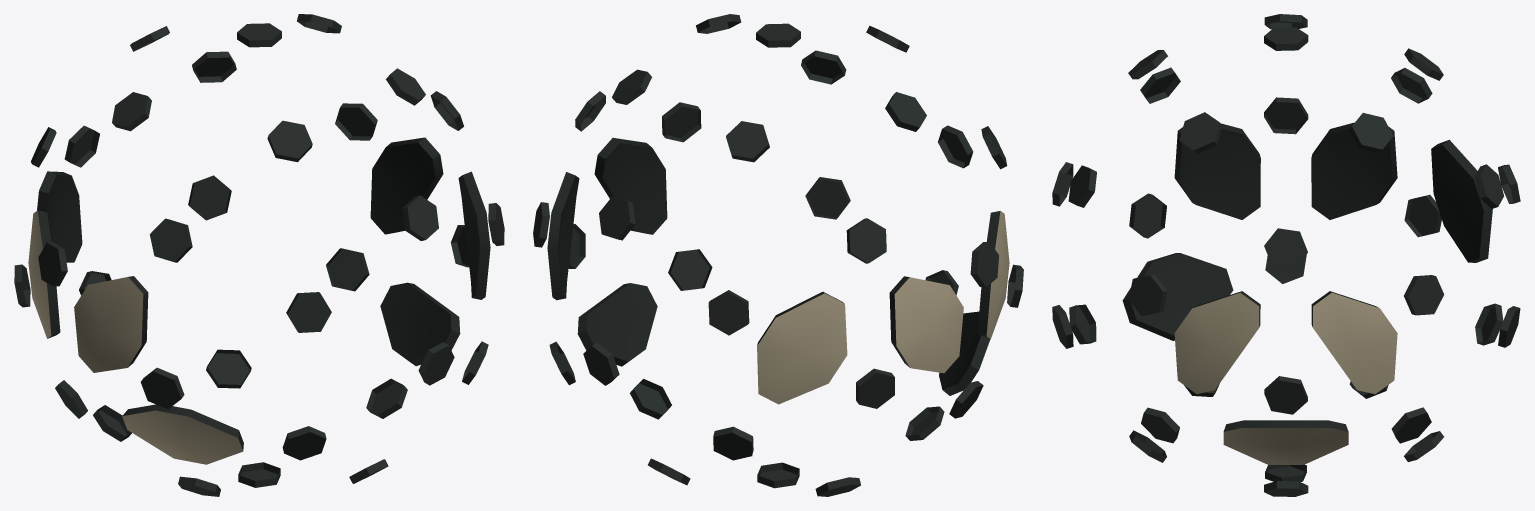
File: shell_sable_c3.glb
3 views of the same model, side by side, from view 1: azimuth 30°, elevation 25°; view 2: azimuth 150°, elevation 25°; view 3: azimuth 270°, elevation 25° (orthographic).
Visible parts, largest first — view 1: Core, Pod; view 2: Pod, Core; view 3: Pod, Core.
Boxes of the visible parts, x1,y1,x2,y2 form: Core: [14, 14, 504, 496]; Pod: [28, 137, 490, 464]; Pod: [547, 138, 1009, 404]; Core: [533, 14, 1023, 496]; Pod: [1122, 122, 1492, 464]; Core: [1052, 14, 1520, 496].
Size of the model in its own units: 1.96 by 1.96 by 1.89.
